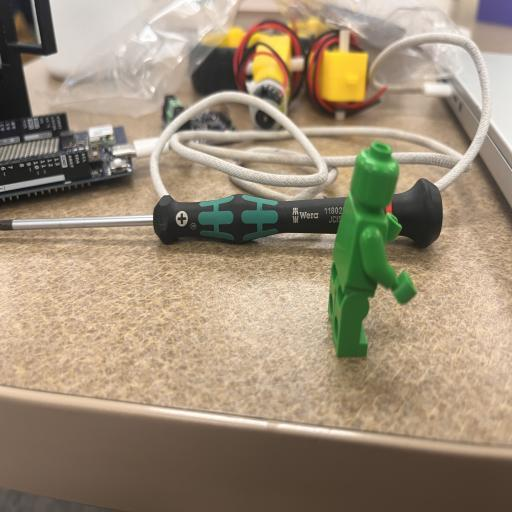Lego-Minifig: (328, 142, 416, 356)
